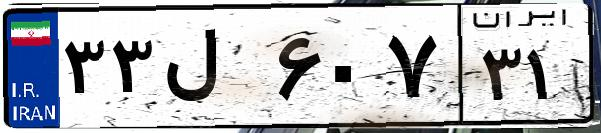0: (330, 28, 385, 110)
1: (525, 38, 570, 115)
3: (57, 26, 110, 100), (475, 38, 525, 113), (110, 28, 158, 98)
6: (270, 28, 330, 110)
7: (385, 28, 445, 110)
ل: (158, 20, 270, 120)
